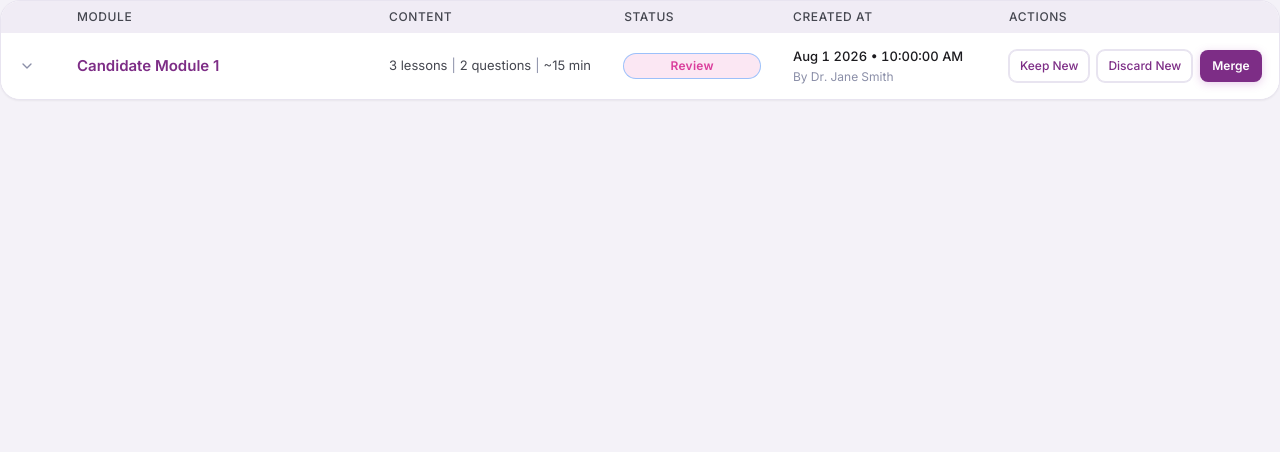
Test: NeedsReviewTab › loads the merge preview from merge_secondary_module_id
Click the button named "Expand comparison" at (27,66), box 13,52 -> 41,80
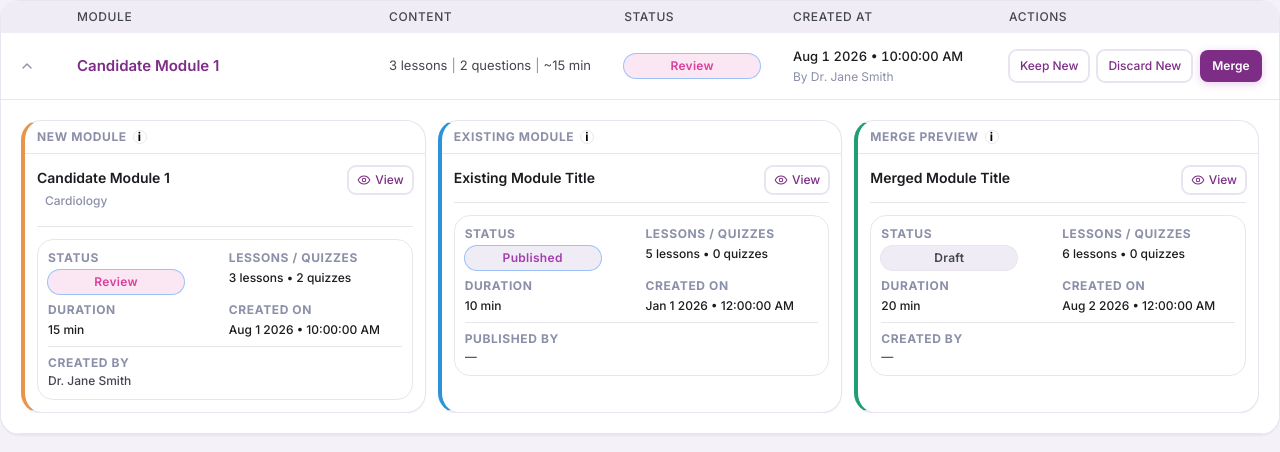
Check: the button "Candidate Module 1" is shown, box 77,54 -> 349,77
Check: the heading "Merged Module Title" is shown, box 870,168 -> 1010,186
Check: the text "Merge Preview" is shown, box 870,128 -> 979,144
